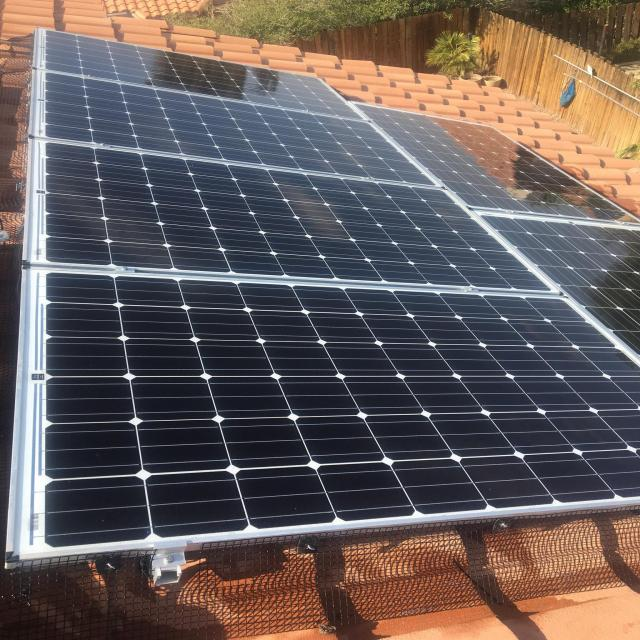clean-solar-panel: (7, 29, 638, 564)
